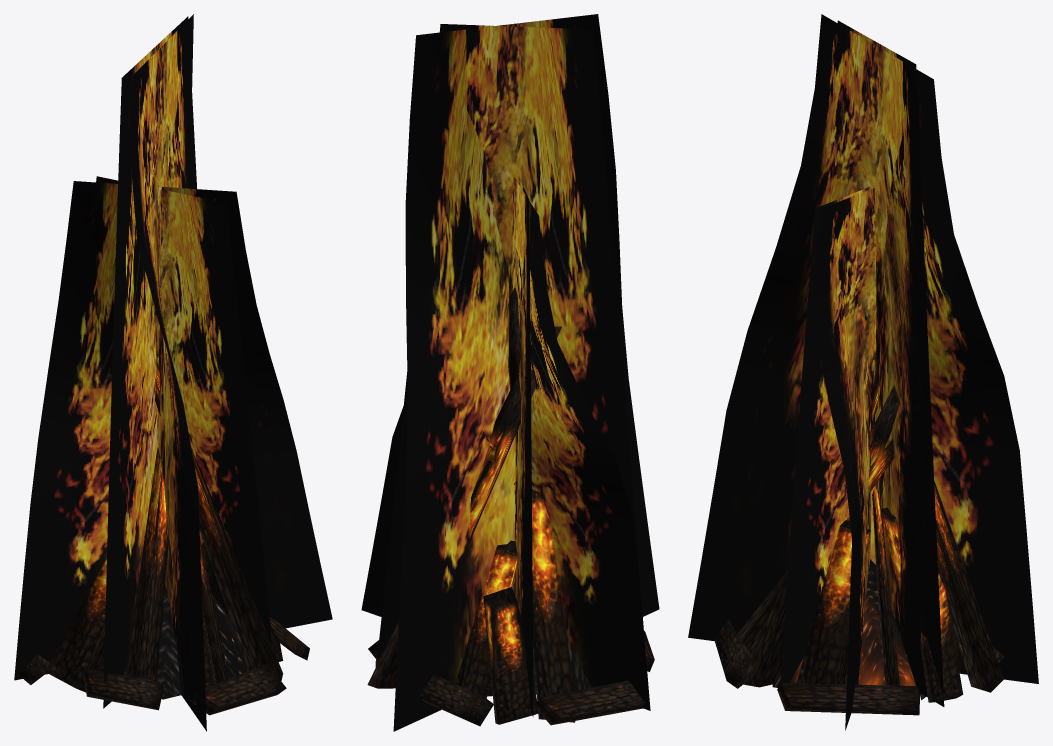
File: orcbonfire.obj
The picture shows the model from 3 angles, left to right: view 1: azimuth 30°, elevation 25°; view 2: azimuth 150°, elevation 25°; view 3: azimuth 270°, elevation 25°; orthographic projection. The views are drawn at different scales.
Parts seen in each view (by area): view 1: Geoset3, Geoset2, Geoset0, Geoset1; view 2: Geoset3, Geoset2, Geoset0, Geoset1; view 3: Geoset3, Geoset2, Geoset0, Geoset1.
Boxes of the visible parts, bbox=[...] form: Geoset3: bbox=[14, 14, 332, 731]; Geoset2: bbox=[96, 16, 271, 708]; Geoset0: bbox=[19, 362, 309, 715]; Geoset1: bbox=[98, 585, 248, 699]; Geoset3: bbox=[361, 14, 659, 731]; Geoset2: bbox=[377, 24, 644, 716]; Geoset0: bbox=[367, 287, 654, 726]; Geoset1: bbox=[487, 581, 591, 696]; Geoset3: bbox=[688, 14, 1038, 730]; Geoset2: bbox=[781, 20, 944, 706]; Geoset0: bbox=[714, 370, 1003, 715]; Geoset1: bbox=[772, 559, 915, 687].
Size of the model in its own units: 4.45 by 9.05 by 4.51.
3 materials, 3 textured.
